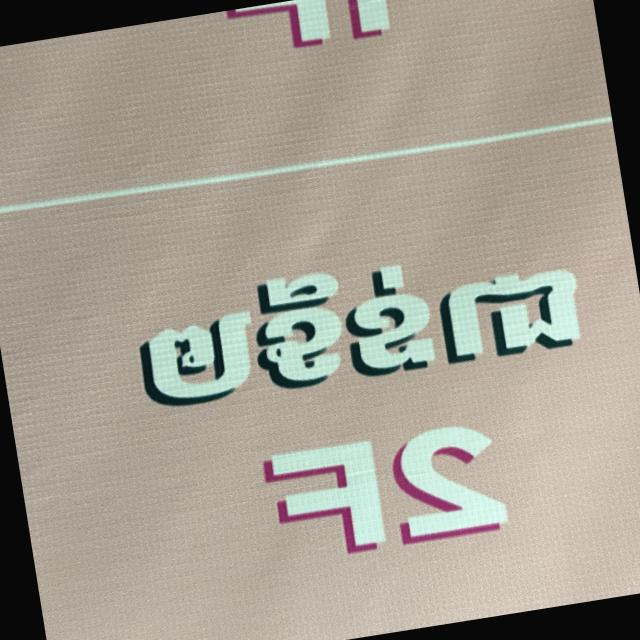631: (377, 398, 542, 564)
Yolov11_80vkh: (112, 224, 622, 442)
